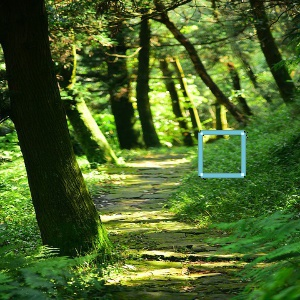square: (197, 129, 248, 180)
